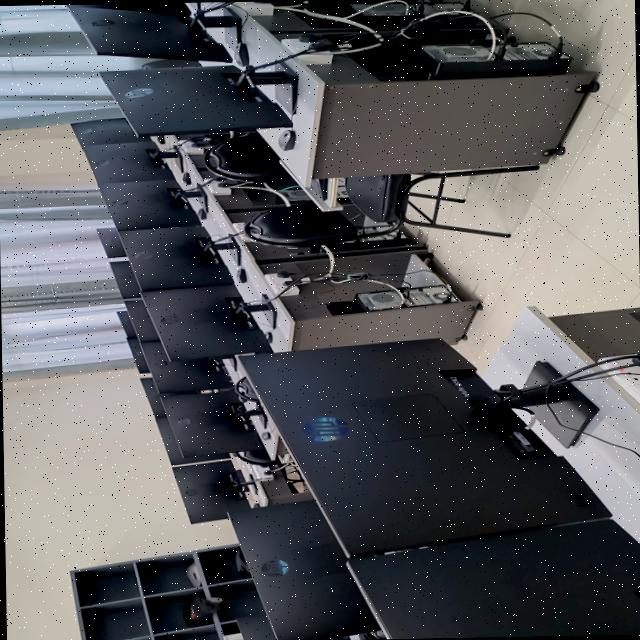Chair: (242, 166, 537, 247), (202, 132, 291, 182), (218, 152, 258, 177)
Monitor: (241, 338, 607, 557), (346, 517, 640, 639), (228, 499, 377, 640), (99, 66, 290, 136), (140, 284, 270, 360), (69, 8, 230, 62), (118, 227, 231, 291), (159, 390, 262, 455), (100, 180, 199, 230), (172, 460, 246, 523), (140, 342, 231, 393), (87, 140, 172, 188), (155, 417, 227, 465), (70, 118, 143, 154), (124, 300, 158, 342), (109, 261, 139, 298), (139, 377, 165, 419), (95, 227, 125, 257), (125, 337, 149, 373), (115, 311, 135, 337)
Mouse: (277, 129, 293, 151), (235, 268, 245, 283)
